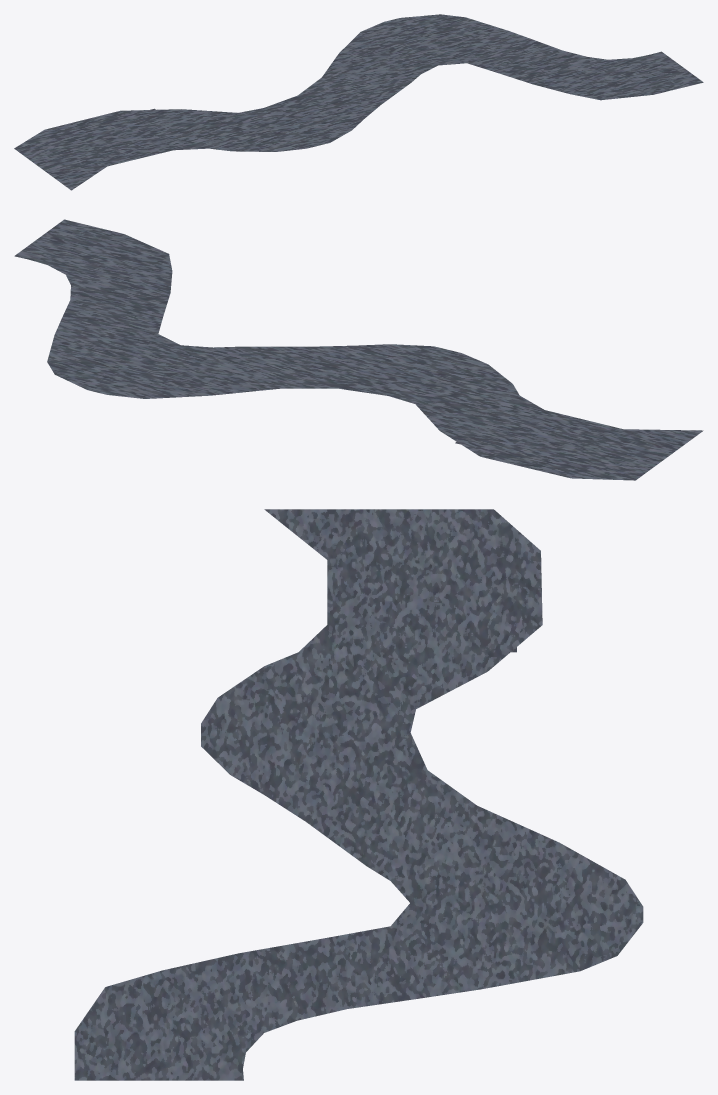
Rendered from Path_exported.fbx.
The picture shows the model from 3 angles, top to bottom: view 1: azimuth 30°, elevation 25°; view 2: azimuth 150°, elevation 25°; view 3: azimuth 270°, elevation 25°; orthographic projection. The views are drawn at different scales.
Visible parts, largest first — view 1: pPlane1; view 2: pPlane1; view 3: pPlane1.
Boxes of the visible parts, x1,y1,x2,y2 form: pPlane1: [14, 14, 703, 190]; pPlane1: [14, 219, 703, 480]; pPlane1: [74, 509, 643, 1080].
Bounding box in the file's own units: 19.95 × 4.44e-16 × 8.4.
